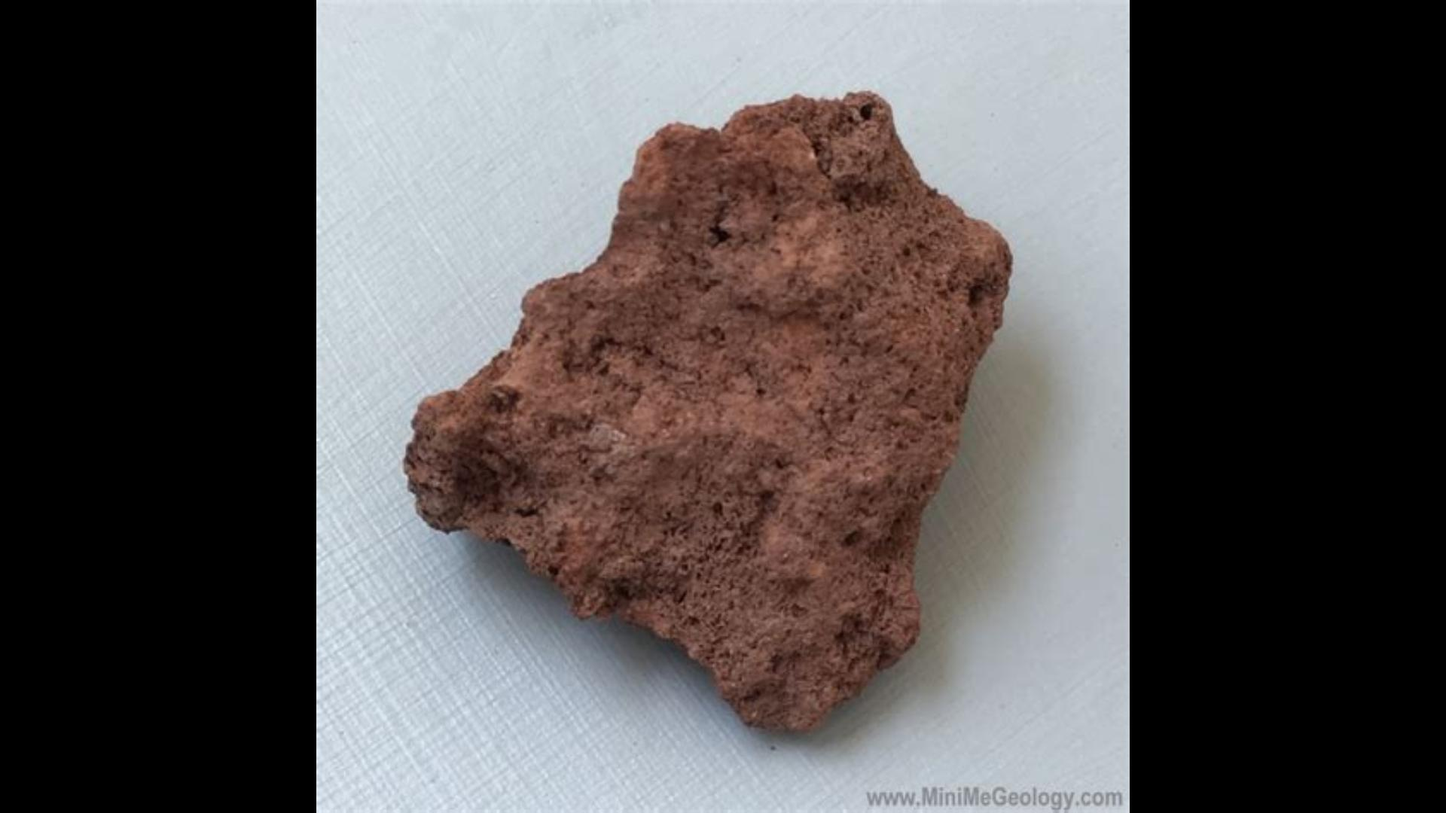rock: (406, 93, 1006, 727)
